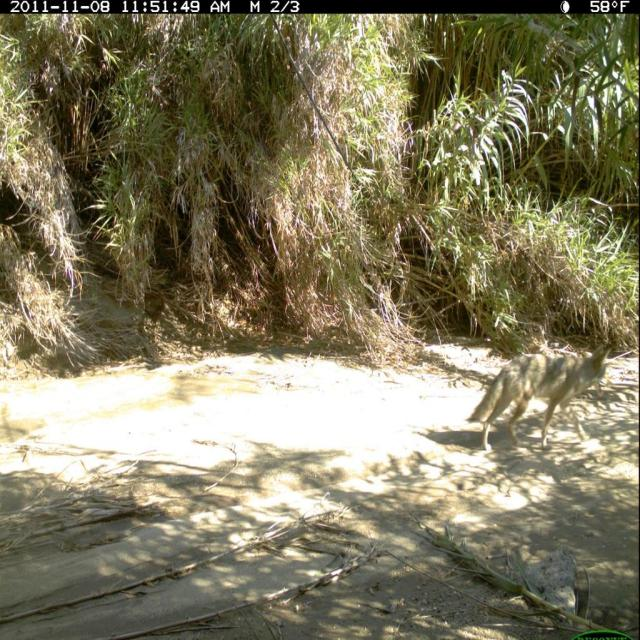coyote: (466, 335, 618, 463)
